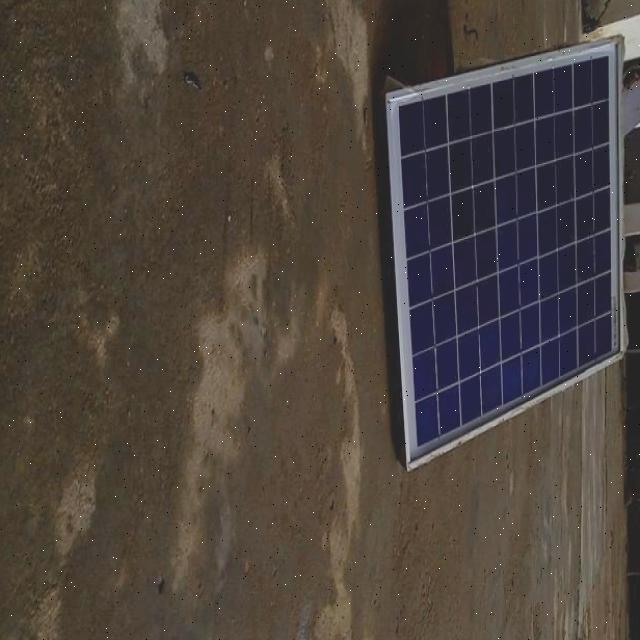Normal Solar Panel: (386, 36, 622, 468)
